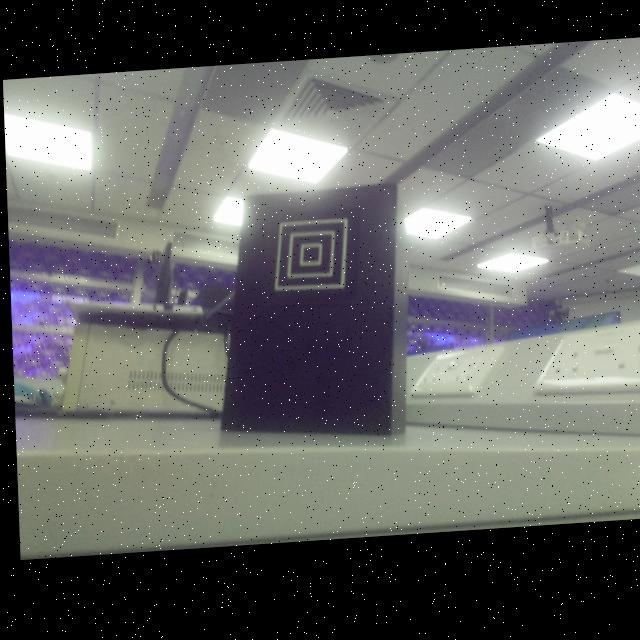BULLSEYE: (272, 224, 346, 296)
